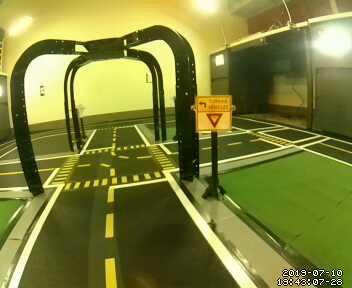Turn Yield: (196, 95, 230, 132)
